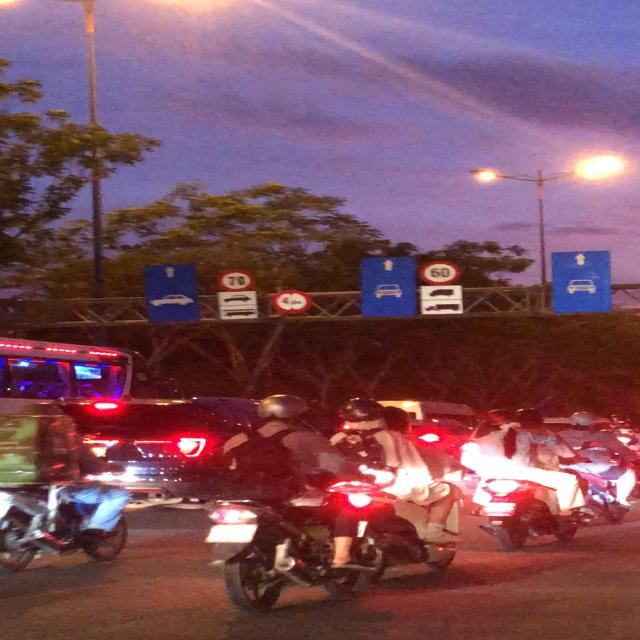Bien bao han che chieu cao: (268, 288, 318, 317)
Bien bao toc do toi da cho phep: (417, 258, 467, 287), (209, 266, 253, 292)
